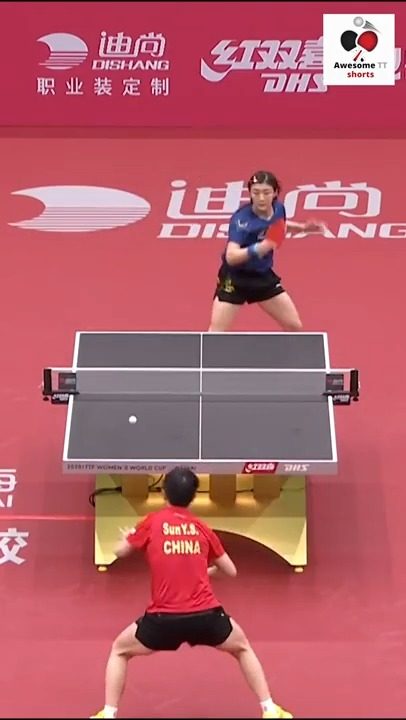Ball: (127, 413, 139, 426)
